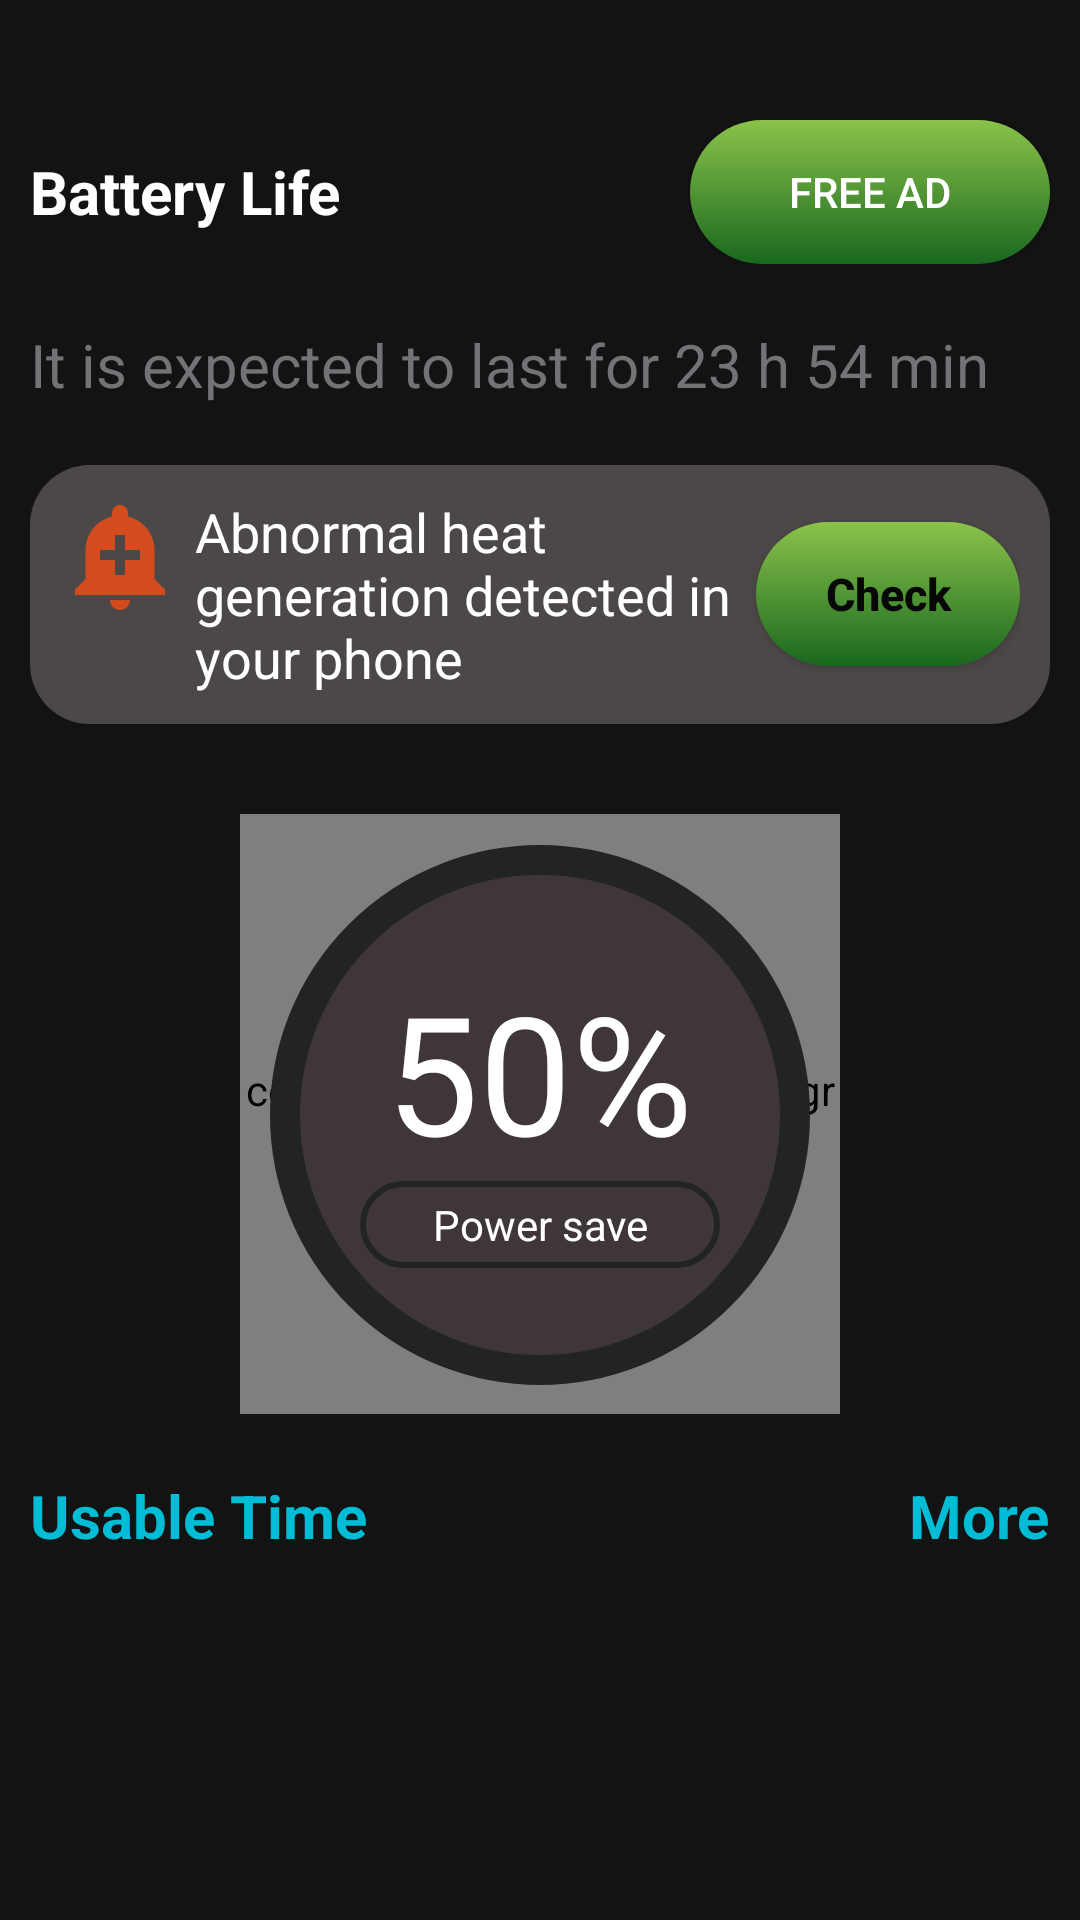

Icons on this 1080*1920 Android screen, each with the point to tap as (x,y):
add alert: (120,557)
